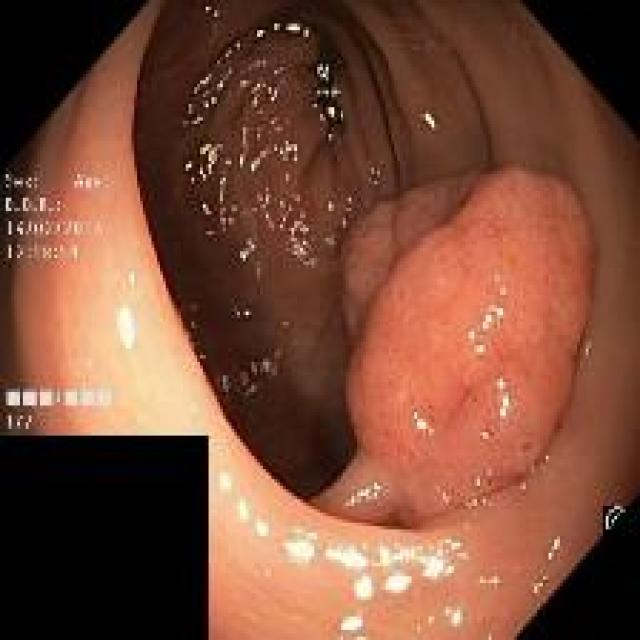Polyps: (312, 169, 594, 528), (341, 172, 484, 341)
